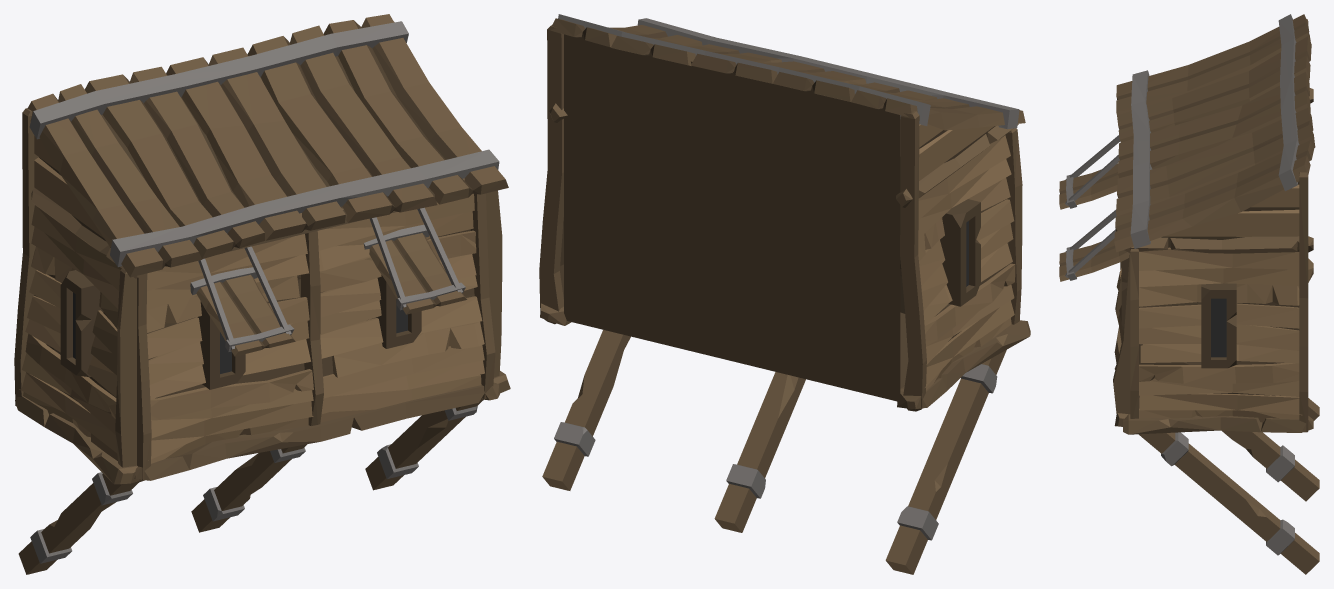
File: SM_Bld_Castle_Wood_Battlement_03.glb
3 renders of one model, left to right at view 1: azimuth 30°, elevation 25°; view 2: azimuth 150°, elevation 25°; view 3: azimuth 270°, elevation 25°, orthographic. The views are drawn at different scales.
Visible parts, largest first — view 1: SM_Bld_Castle_Wood_Battlement_03; view 2: SM_Bld_Castle_Wood_Battlement_03; view 3: SM_Bld_Castle_Wood_Battlement_03.
Part boxes in pixels (<box>): SM_Bld_Castle_Wood_Battlement_03: <box>14,14,510,574</box>; SM_Bld_Castle_Wood_Battlement_03: <box>539,14,1030,574</box>; SM_Bld_Castle_Wood_Battlement_03: <box>1059,14,1319,574</box>.
Bounding box in the file's own units: 3.15 × 3.62 × 2.08.
1 material, 1 textured.
